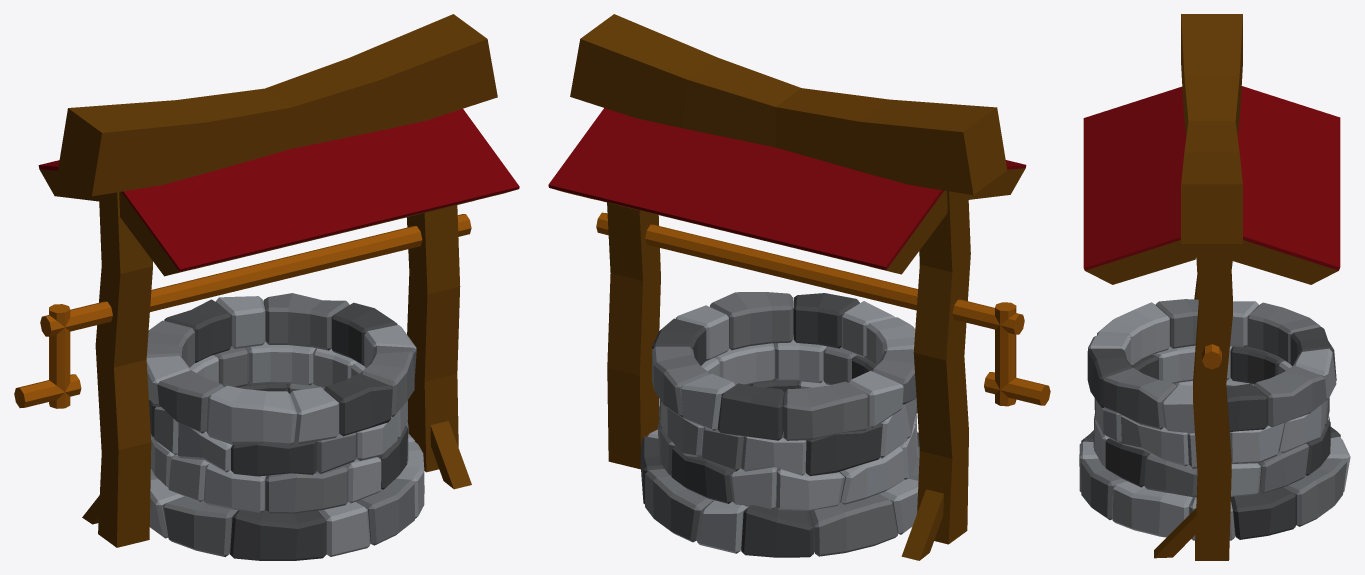
File: well2.fbx
The picture shows the model from 3 angles, left to right: view 1: azimuth 30°, elevation 25°; view 2: azimuth 150°, elevation 25°; view 3: azimuth 270°, elevation 25°; orthographic projection. The views are drawn at different scales.
Visible parts, largest first — view 1: well; view 2: well; view 3: well.
Boxes of the visible parts, bbox=[...] form: well: bbox=[14, 14, 519, 560]; well: bbox=[548, 14, 1050, 560]; well: bbox=[1079, 14, 1350, 560].
Bounding box in the file's own units: 23.95 × 21.23 × 13.47.
